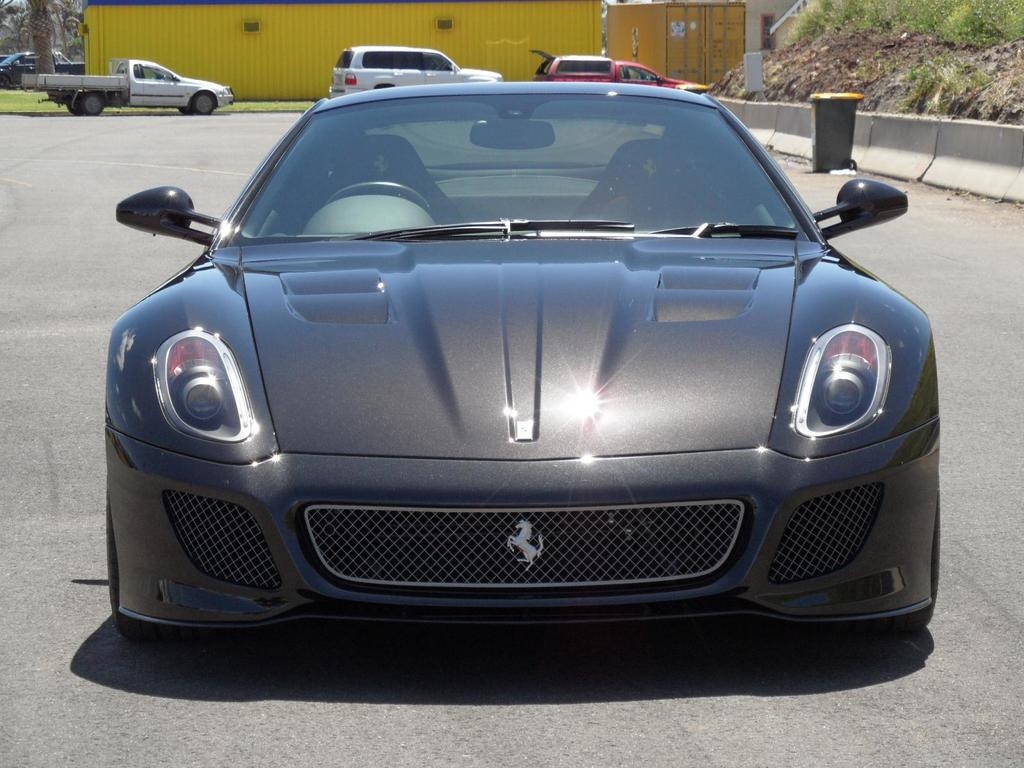Tree: (0, 0, 83, 74)
